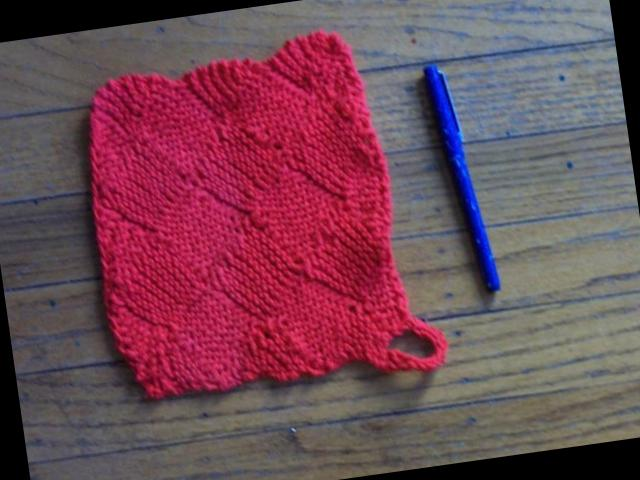PEN: (412, 48, 514, 305)
